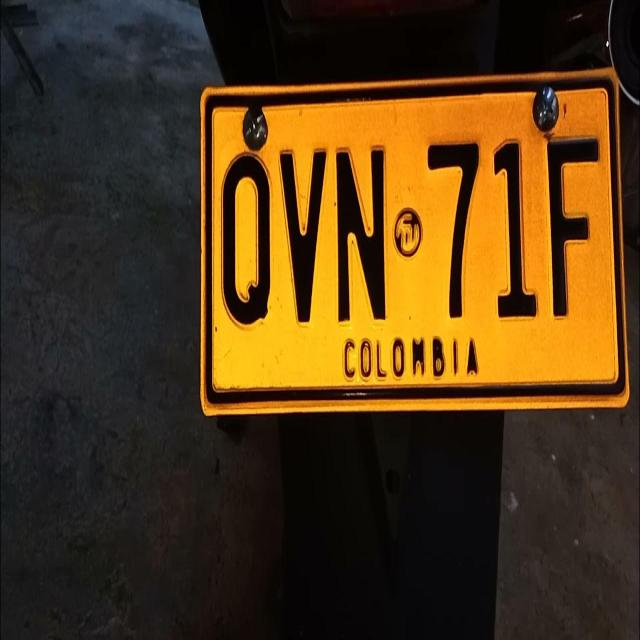placa_moto: (200, 65, 634, 415)
